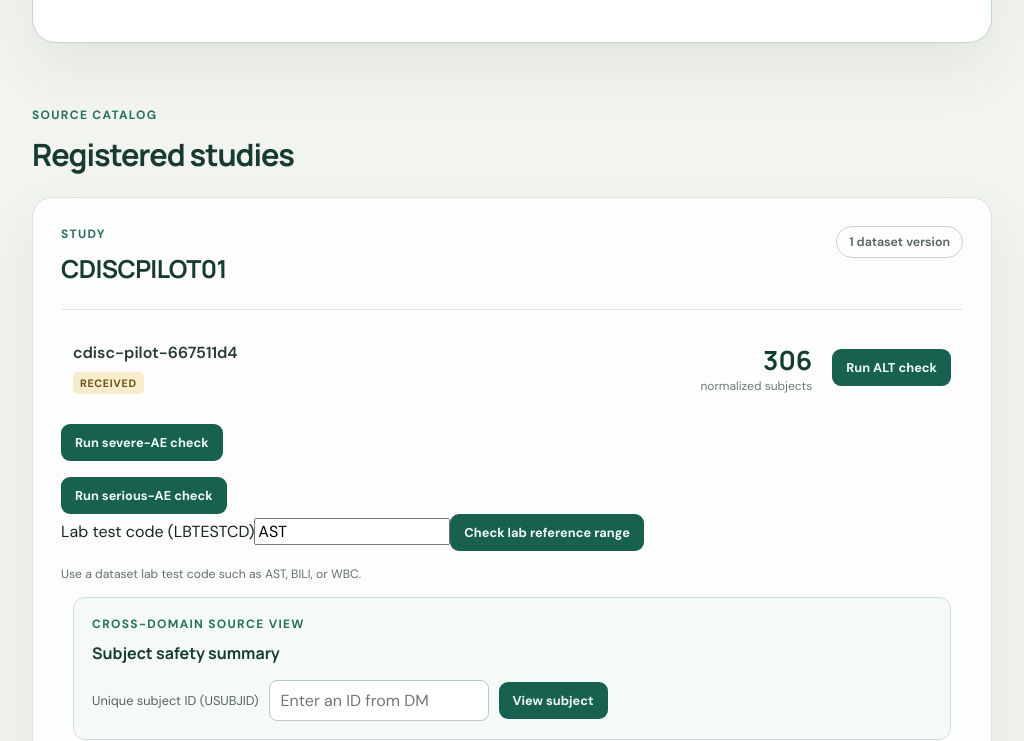
Test: App › shows a useful error when the ALT request fails
(page scrolled)
Step 1. Click the button "Run ALT check" → (892, 368), box [832, 349, 951, 386]
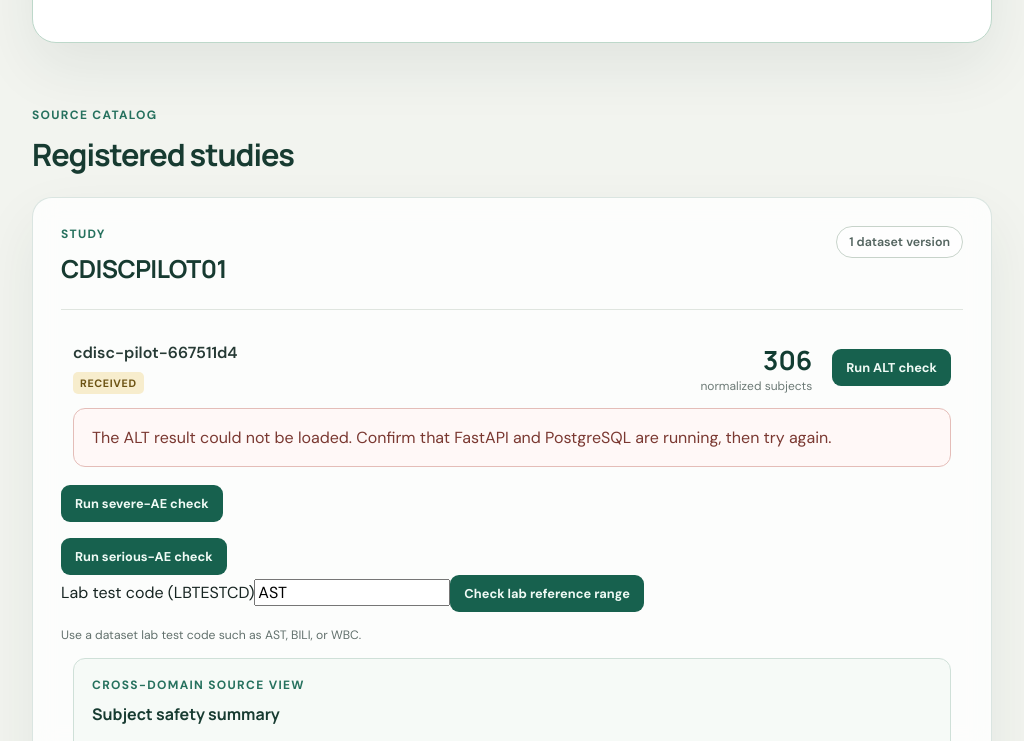
Now the message shows "The ALT result could not be loaded.", box [92, 427, 832, 448]
